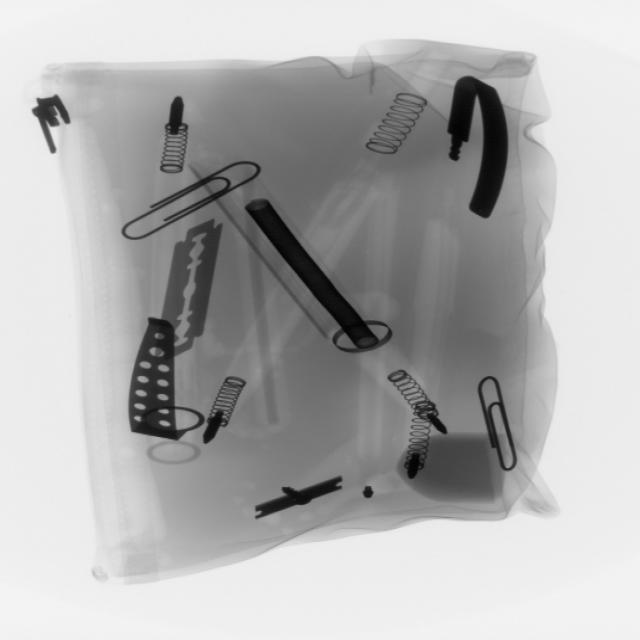BLADE: (152, 212, 226, 367)
